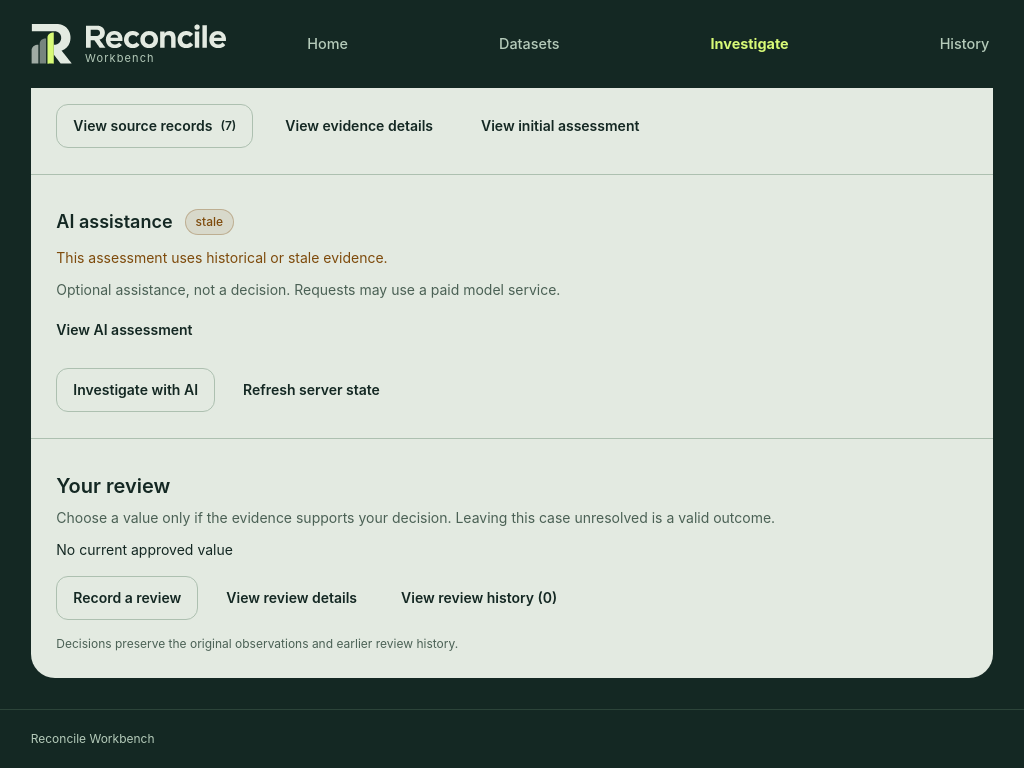
Test: keeps AI stale distinct and prevents accepting it
The image size is (1024, 768).
(page scrolled)
Expected: the heading "Your review" is shown, [56,474,170,498]
What coordinates should you click on to do the following:
click the button "Record a review"
I would click on:
 (127, 598)
Its box is [56,576,198,620].
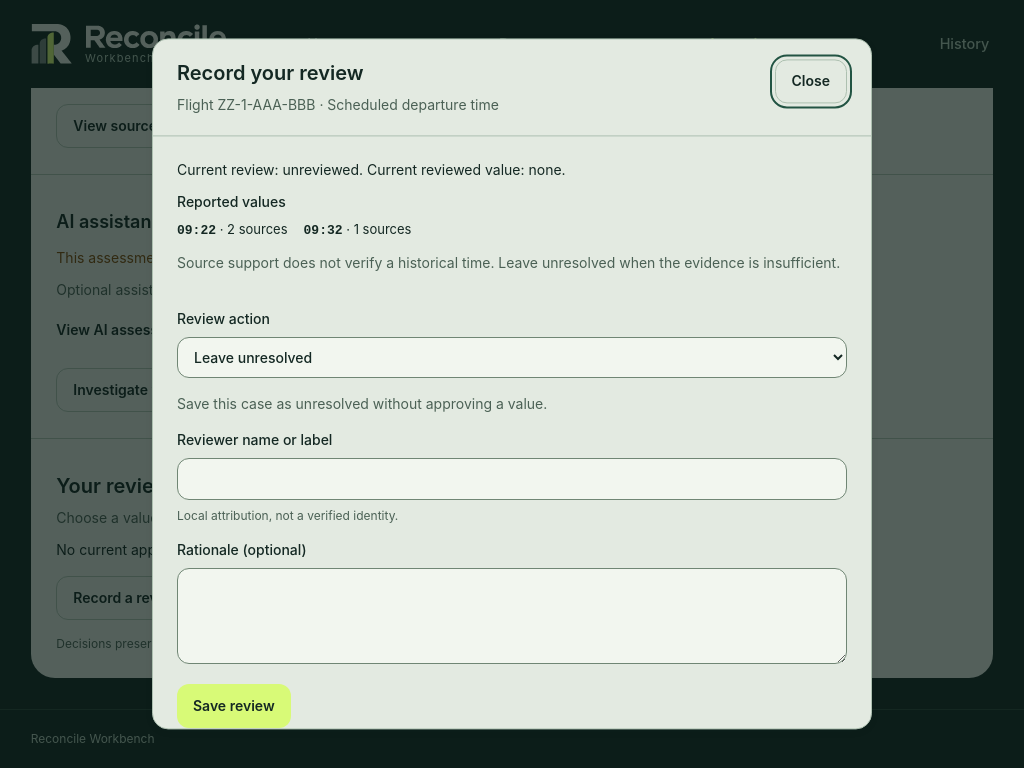
Expected: the text "stale" is shown, [185,209,234,235]
Expected: the button "Save review" is enabled, [177,684,291,728]
